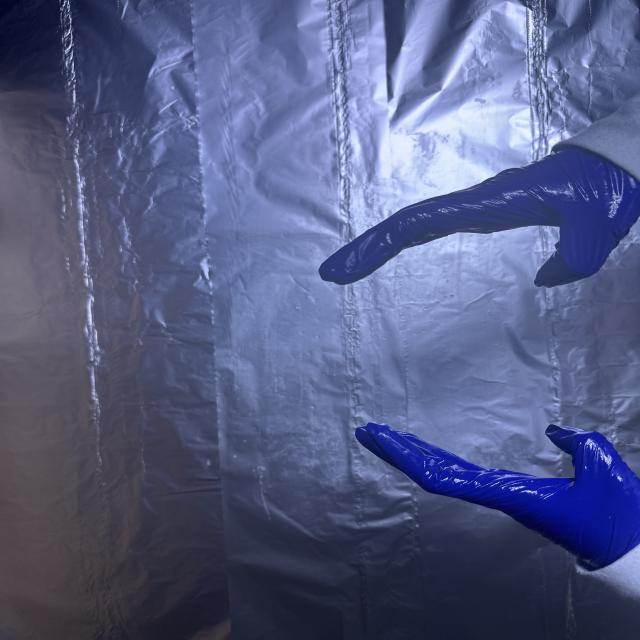gloves_contaminated: (319, 148, 640, 286), (356, 423, 640, 570)
